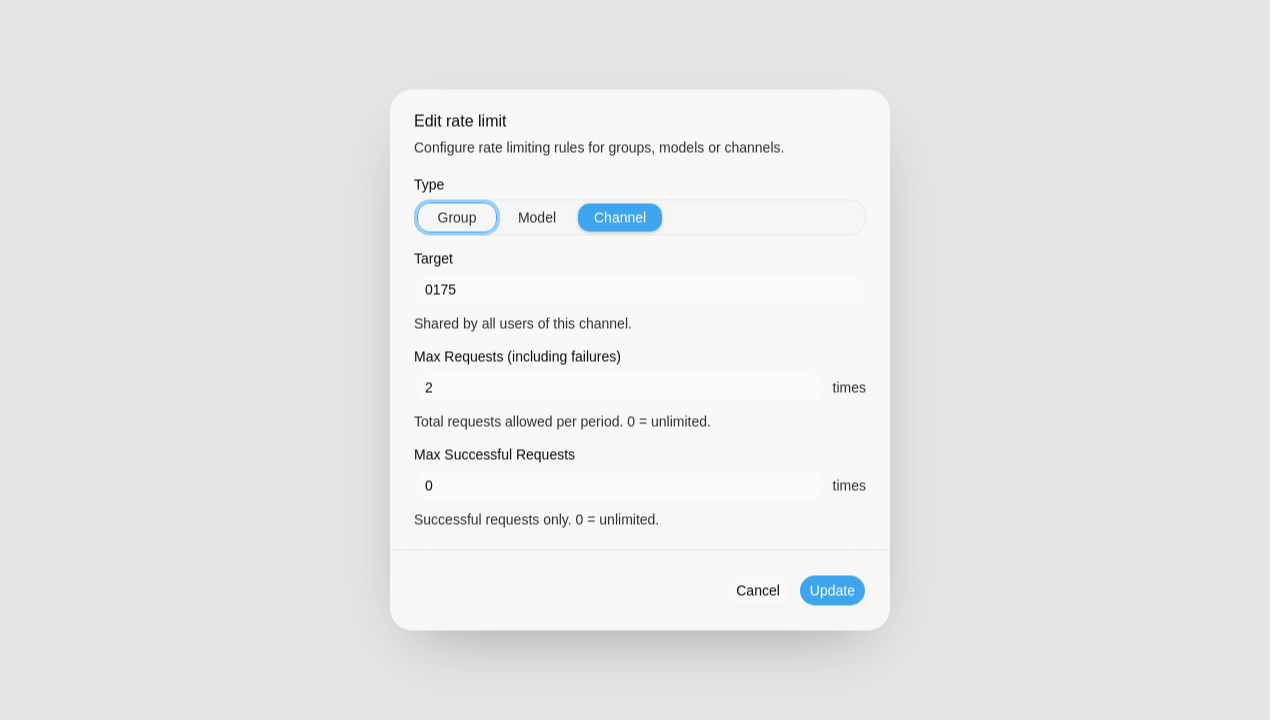
Test: 渠道速率限制 › 渠道编号非法时显示校验错误，且不能以零成功数保存旧类型
Click the button "Update" at (832, 590), box [799,574,866,606]
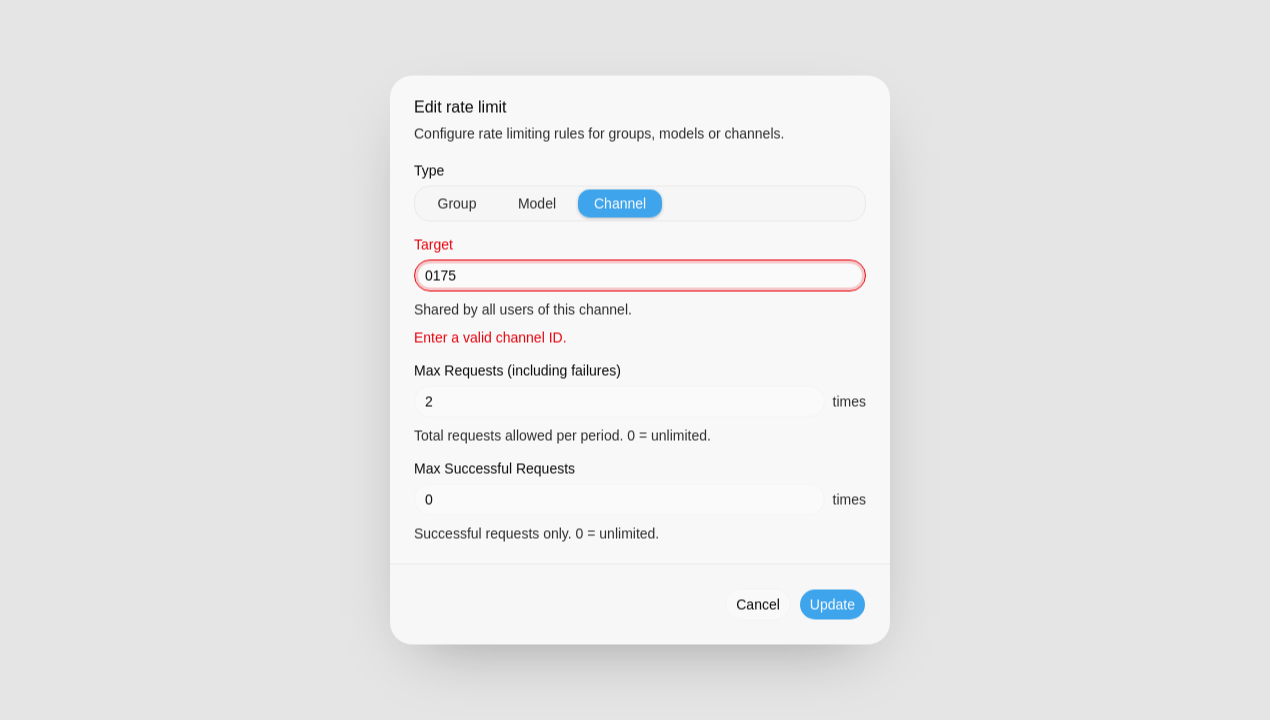
Expected: the text "Enter a valid channel ID." is shown, [414,330,566,346]
Click the button "Model" at (537, 204), box [497,188,577,218]
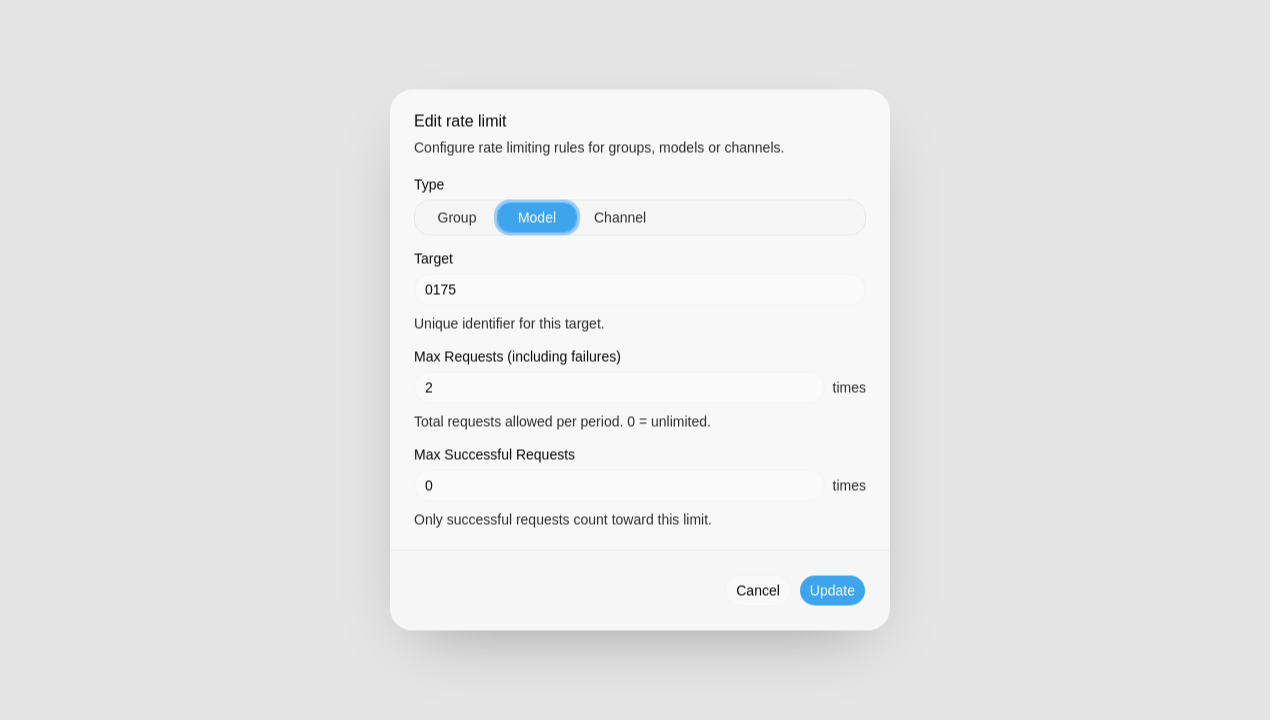
Submit the form, box [414,178,866,530]
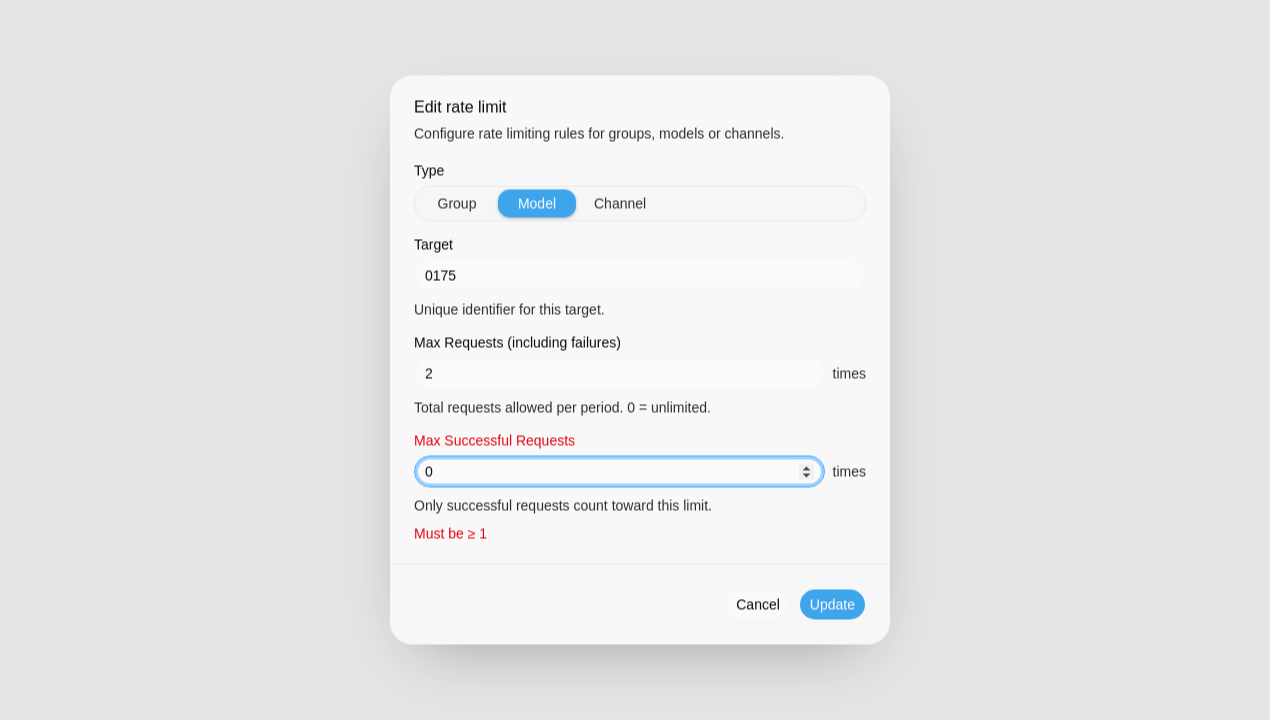
Expected: the text "Must be ≥ 1" is shown, [414,526,487,542]
